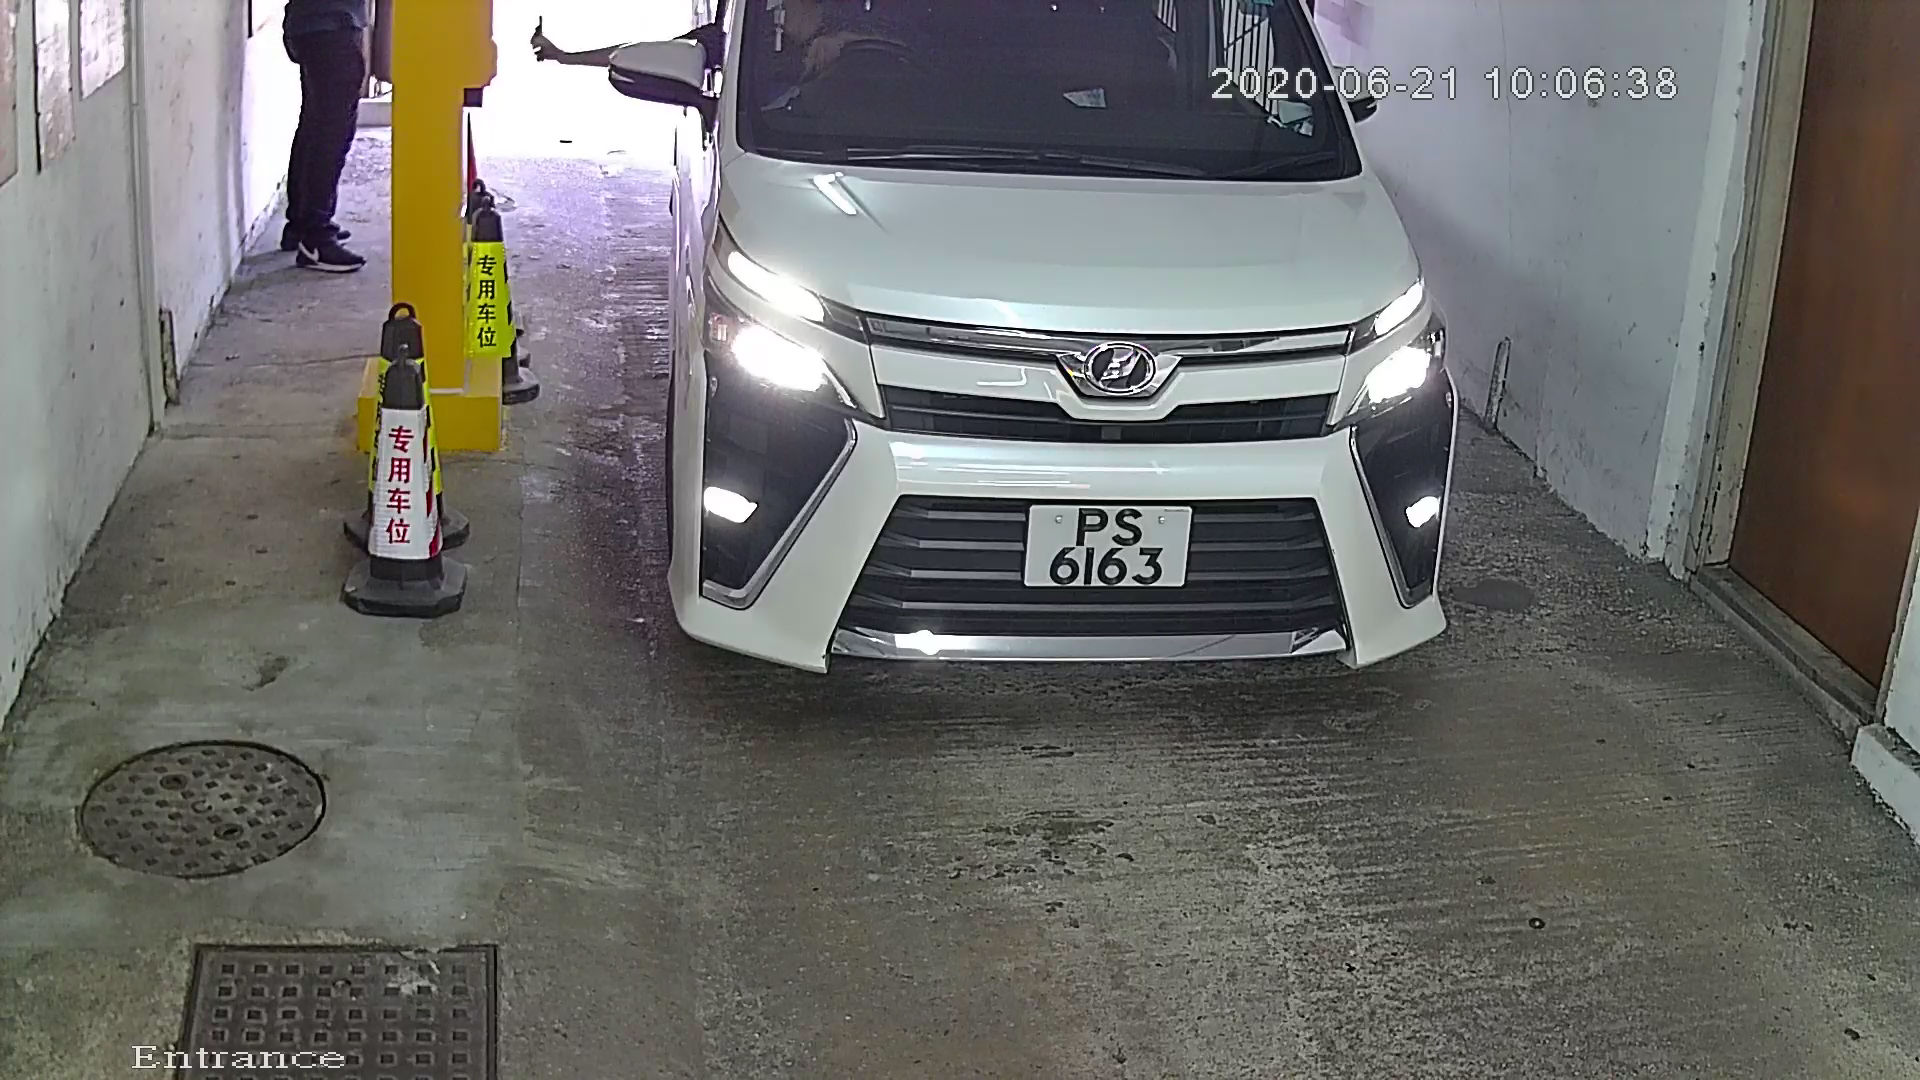privatecar: (599, 3, 1514, 727)
